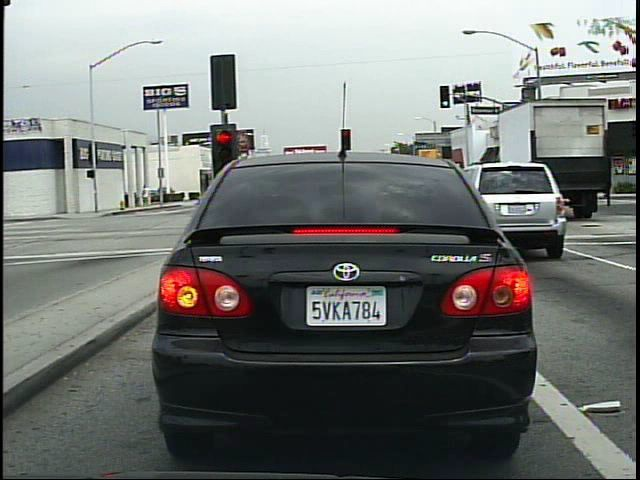person: (517, 169, 531, 202), (142, 182, 154, 211)
